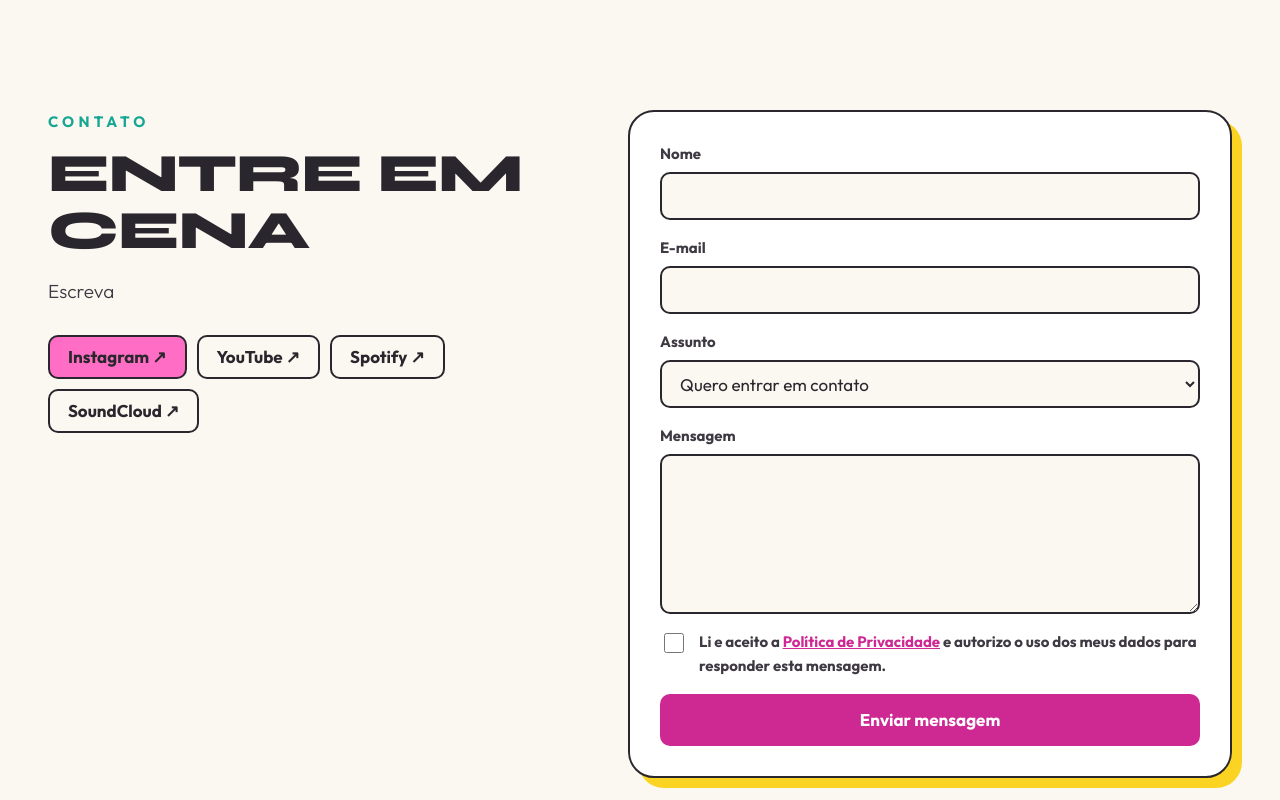
Scenario: Contact › envia e mostra confirmação
Type "Maria Silva" into the field labelled "Nome" at (930, 196), box [660,172,1200,220]
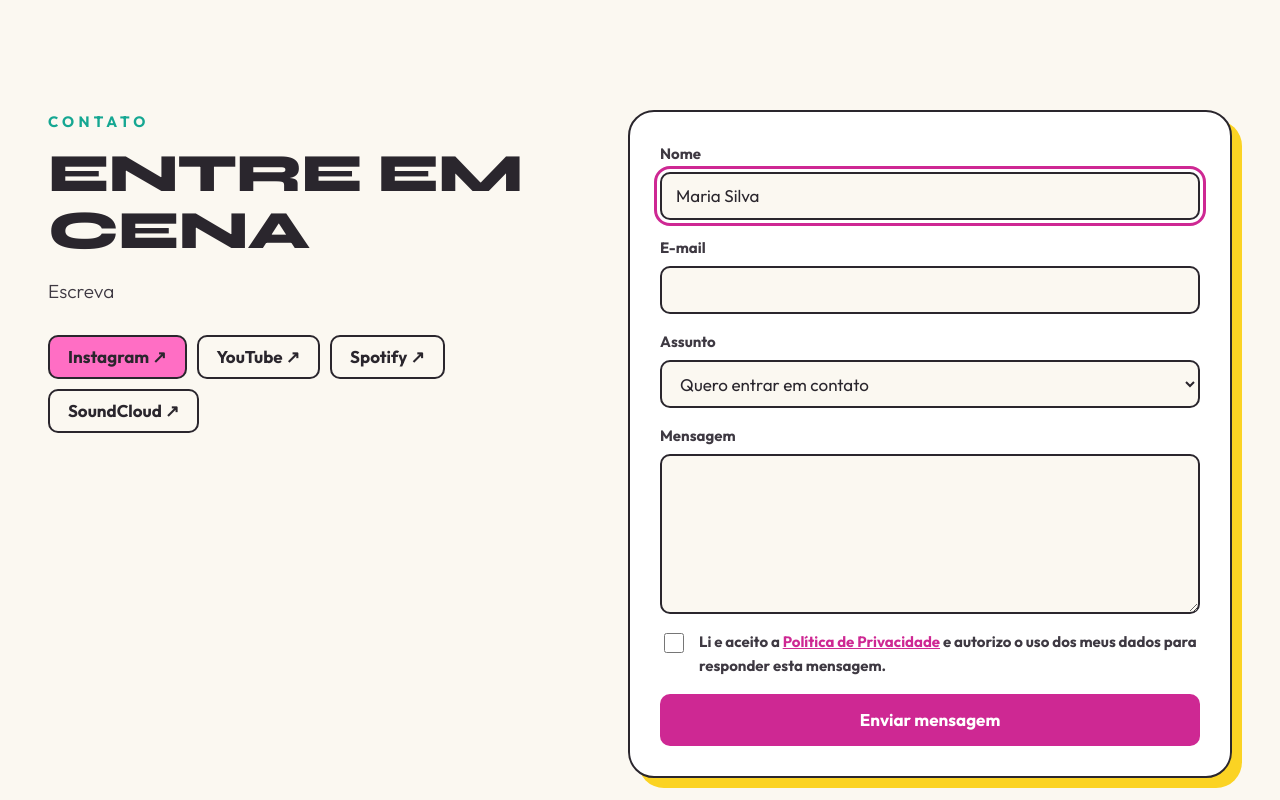
Type "maria@exemplo.com" into the field labelled "E-mail" at (930, 290), box [660,266,1200,314]
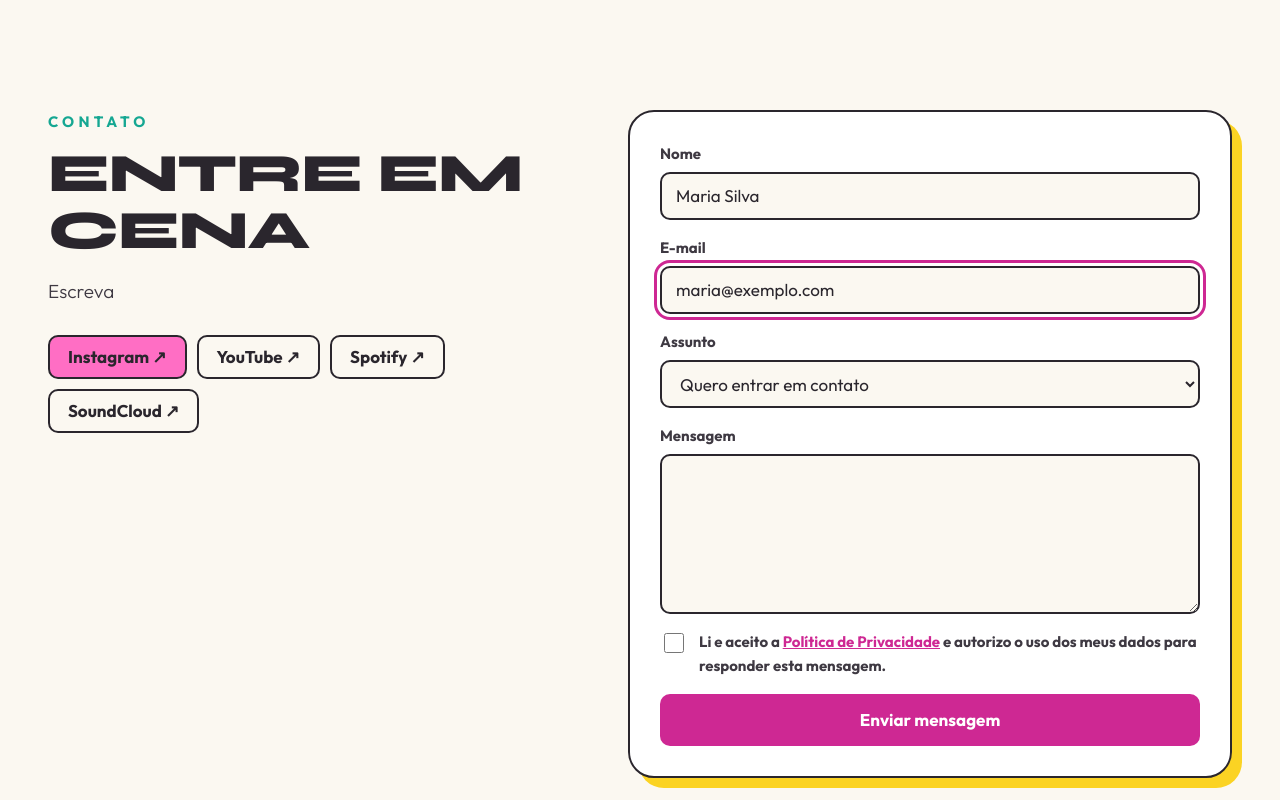
Type "Gostaria de participar do movimento." into the text box labelled "Mensagem" at (930, 534), box [660,454,1200,614]
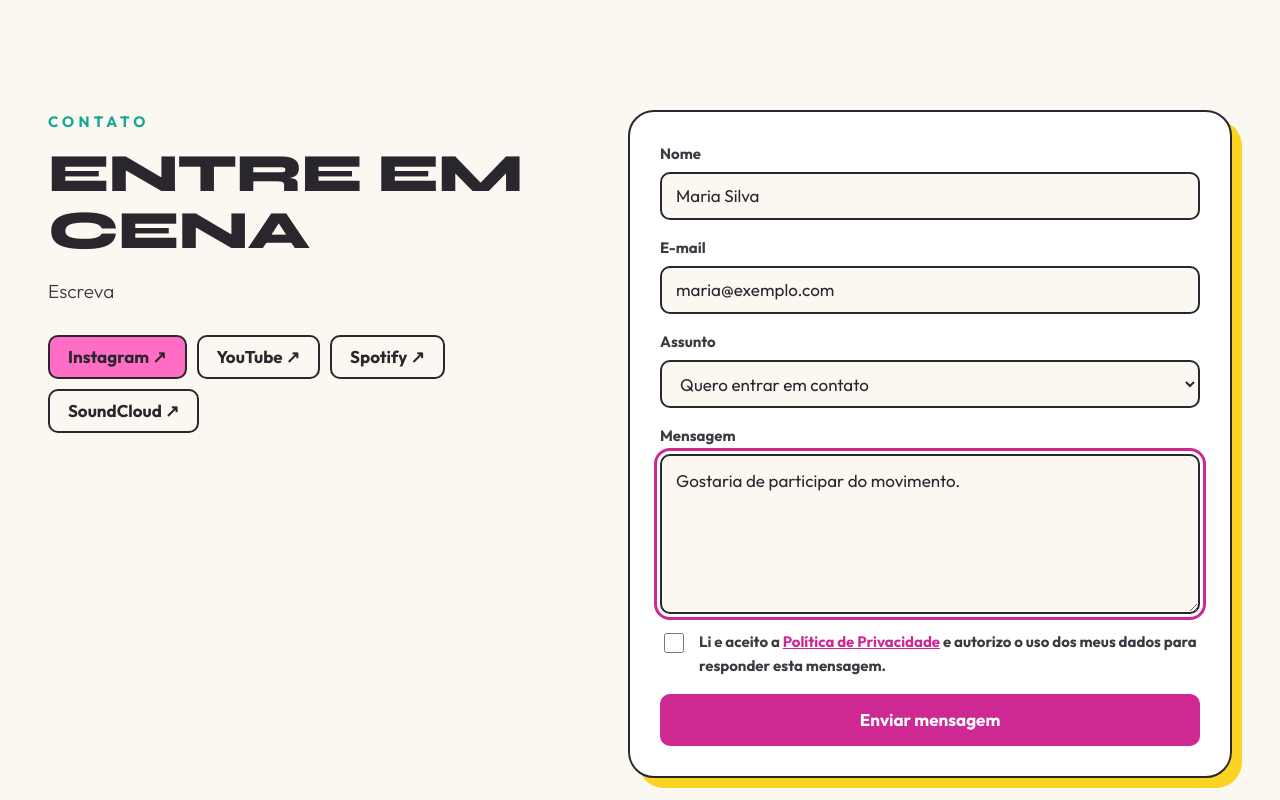
Click the checkbox labelled "Li e aceito" at (674, 643), box [664,633,684,653]
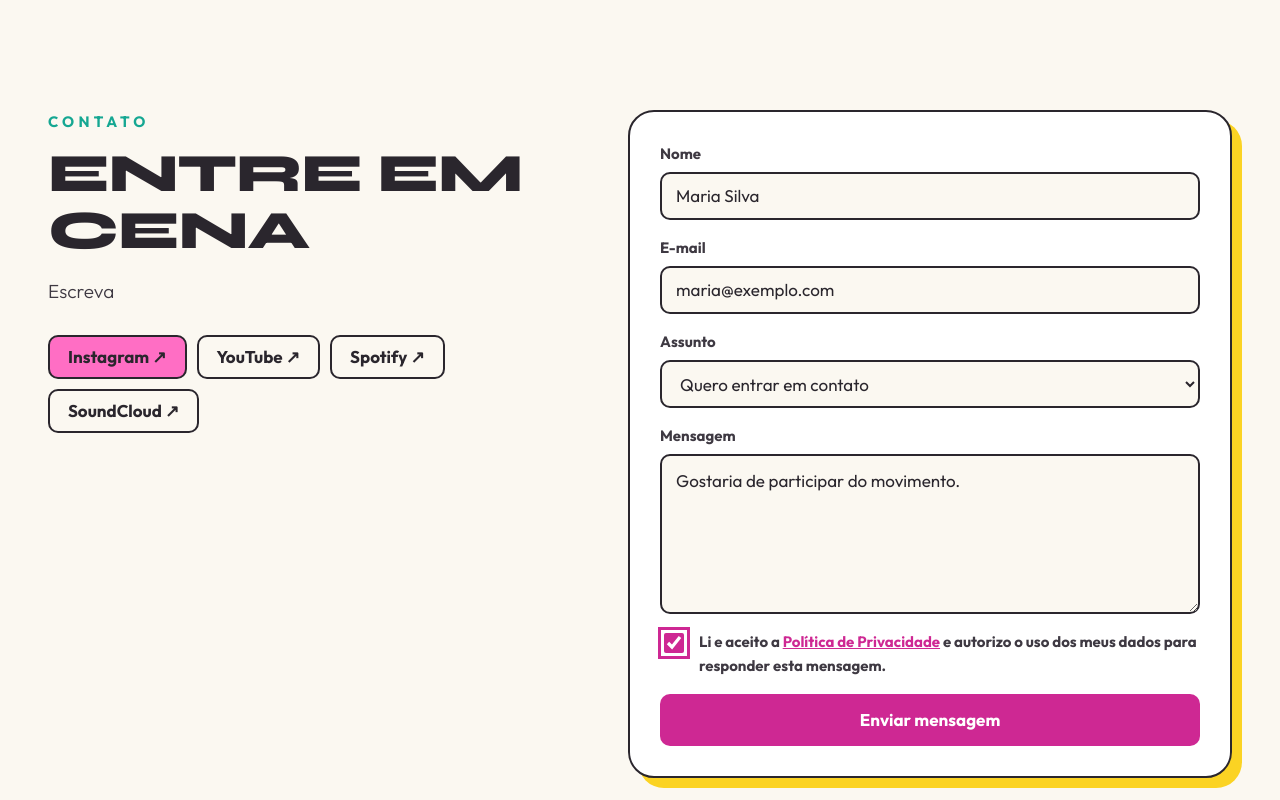
Click the button "Enviar mensagem" at (930, 720), box [660,694,1200,746]
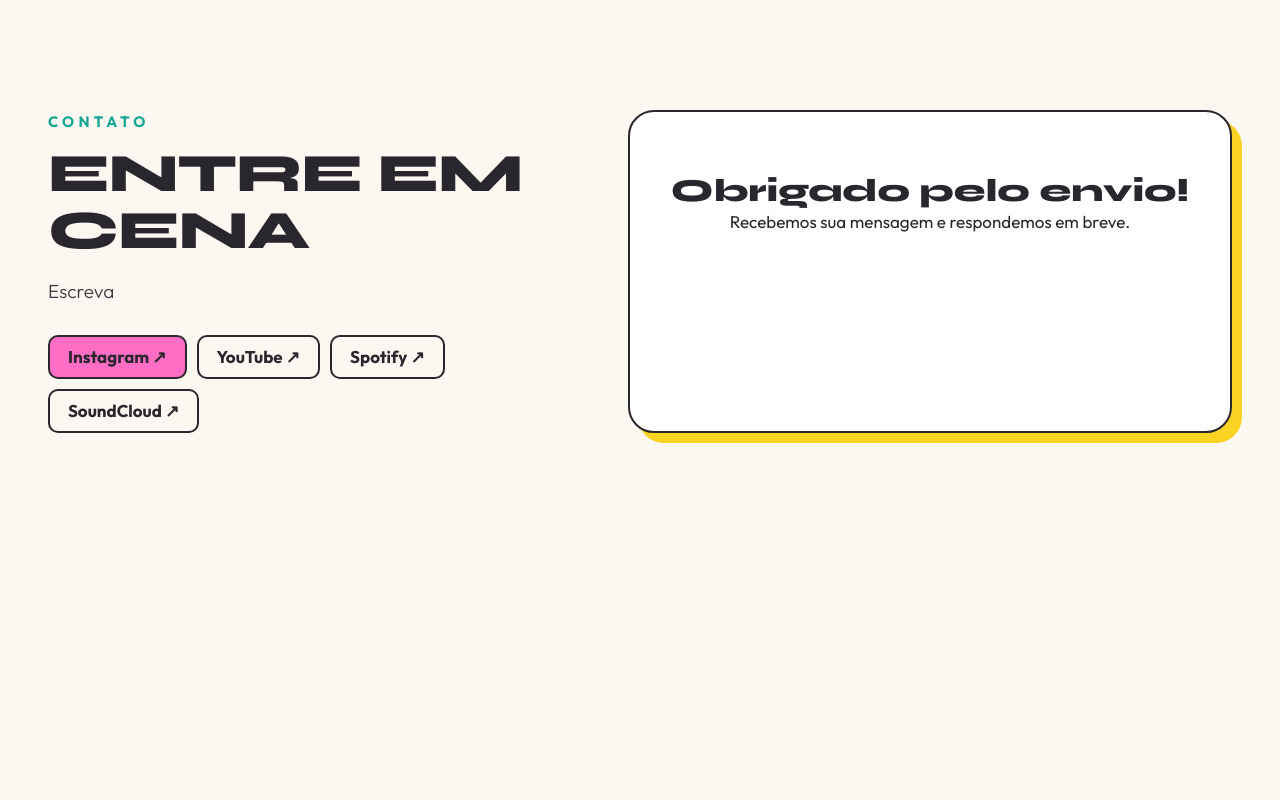
Check: the heading "Obrigado pelo envio!" is shown, box [660,174,1200,208]
